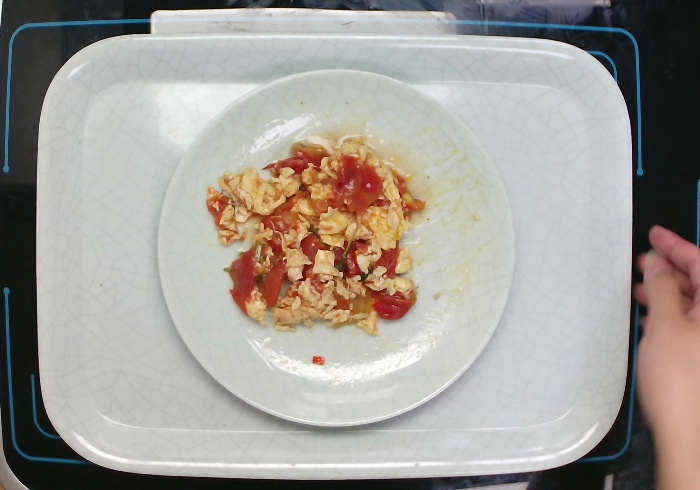JYsf-Da_Yuan_Pan: (155, 66, 519, 429)
